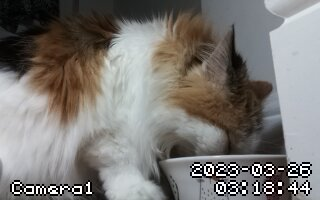clara: (5, 4, 274, 200)
